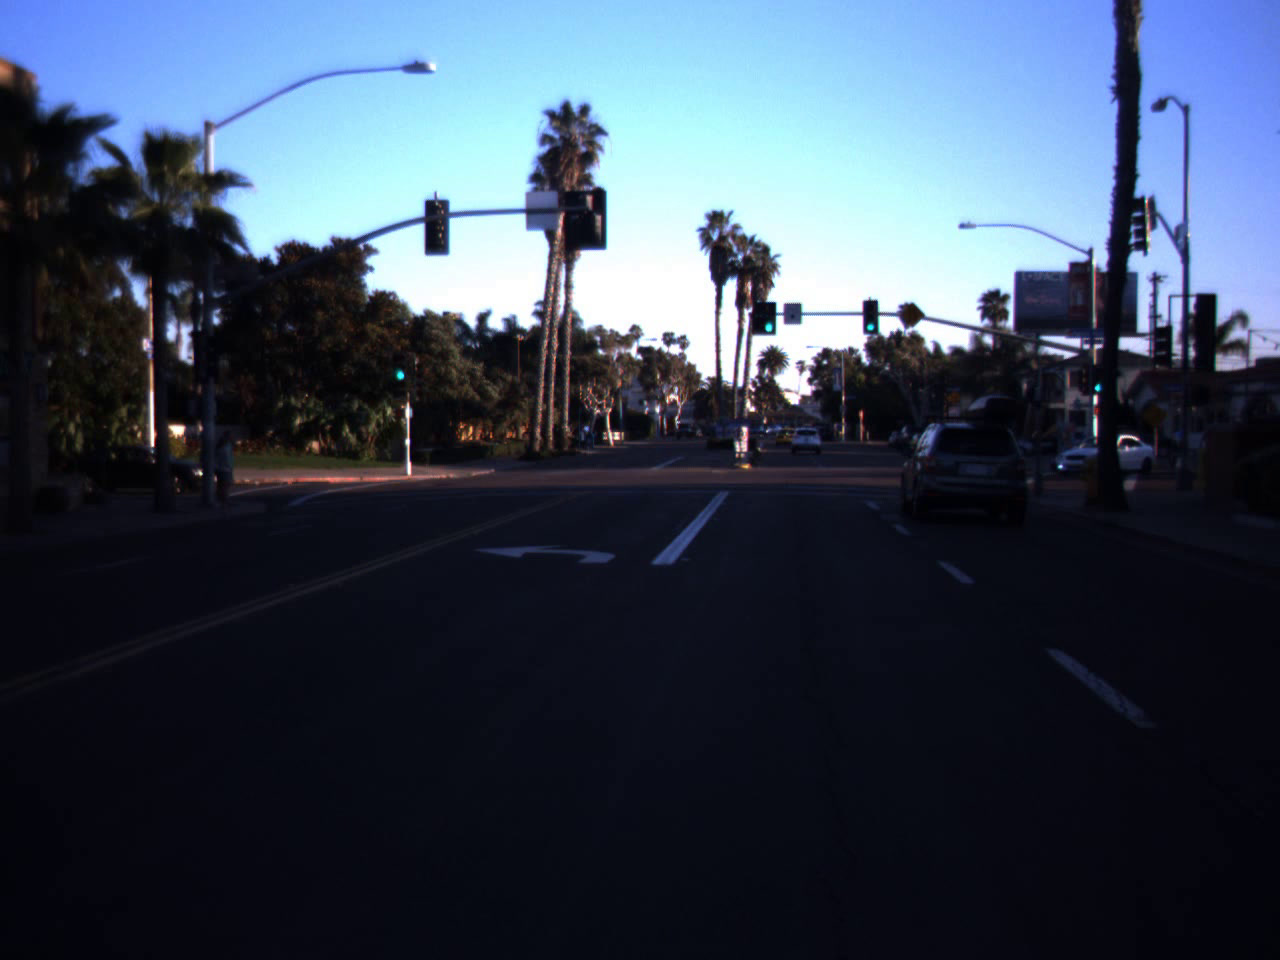go: (760, 299, 778, 334), (392, 351, 410, 381)
